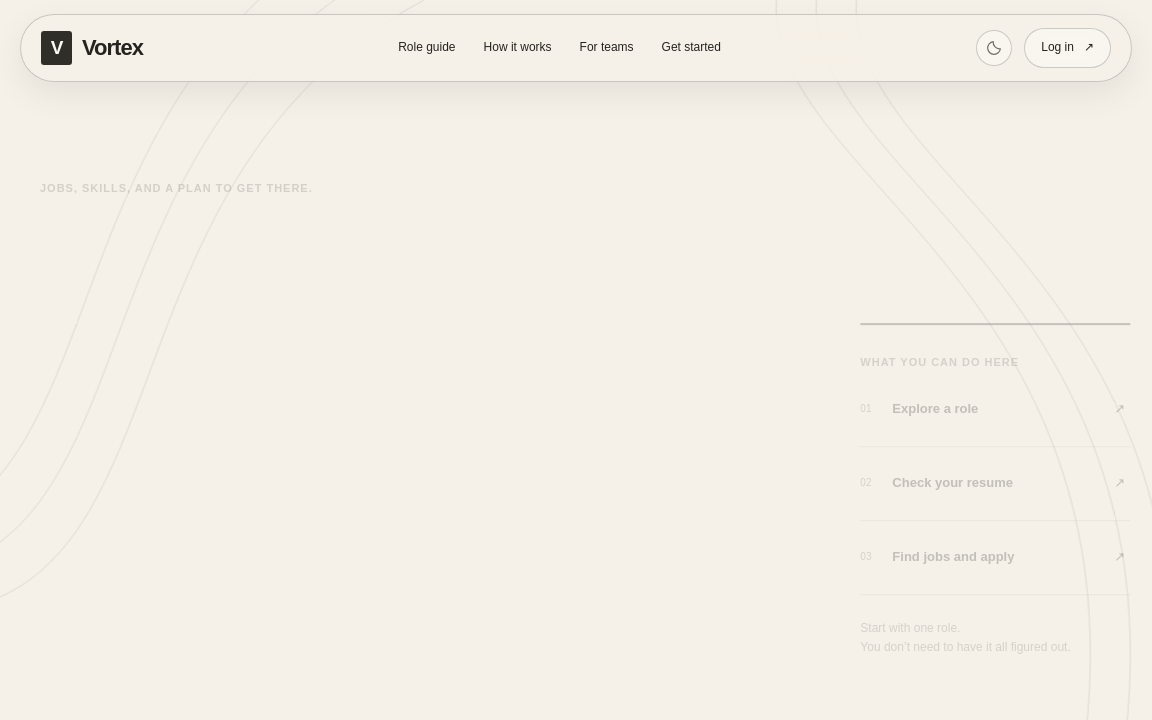
Test: App routing and navigation order › takes a visitor from landing-page Get started to login and sign-up choices
Click the link "Get started" at (691, 47), box [662,40,721,54]
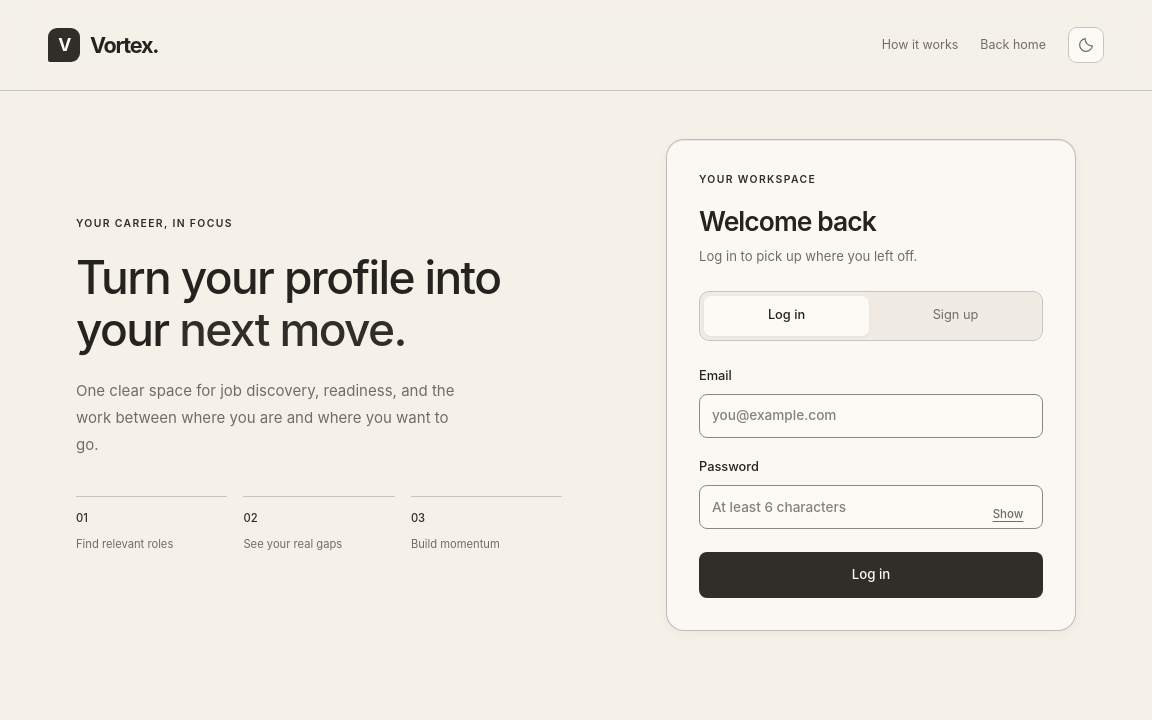
Now the heading "Welcome back" is shown, box [699,205,876,237]
Now the button "Sign up" is shown, box [873,296,1038,336]
